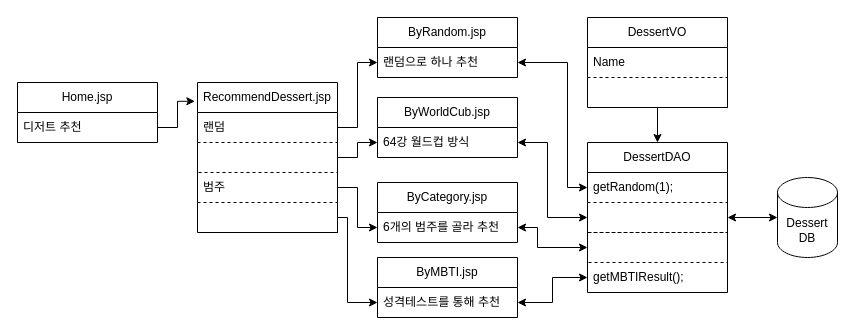
Image size: 855x335. Some labels were removed from this diagram. The centre of each missing label's shape, as x and y in pixels:
"getRandom(64);" belongs at point (657, 217).
"getTypes();" belongs at point (657, 247).
"MBTI" belongs at point (267, 217).
"Type" belongs at point (657, 92).
"월드컵" belongs at point (267, 157).
